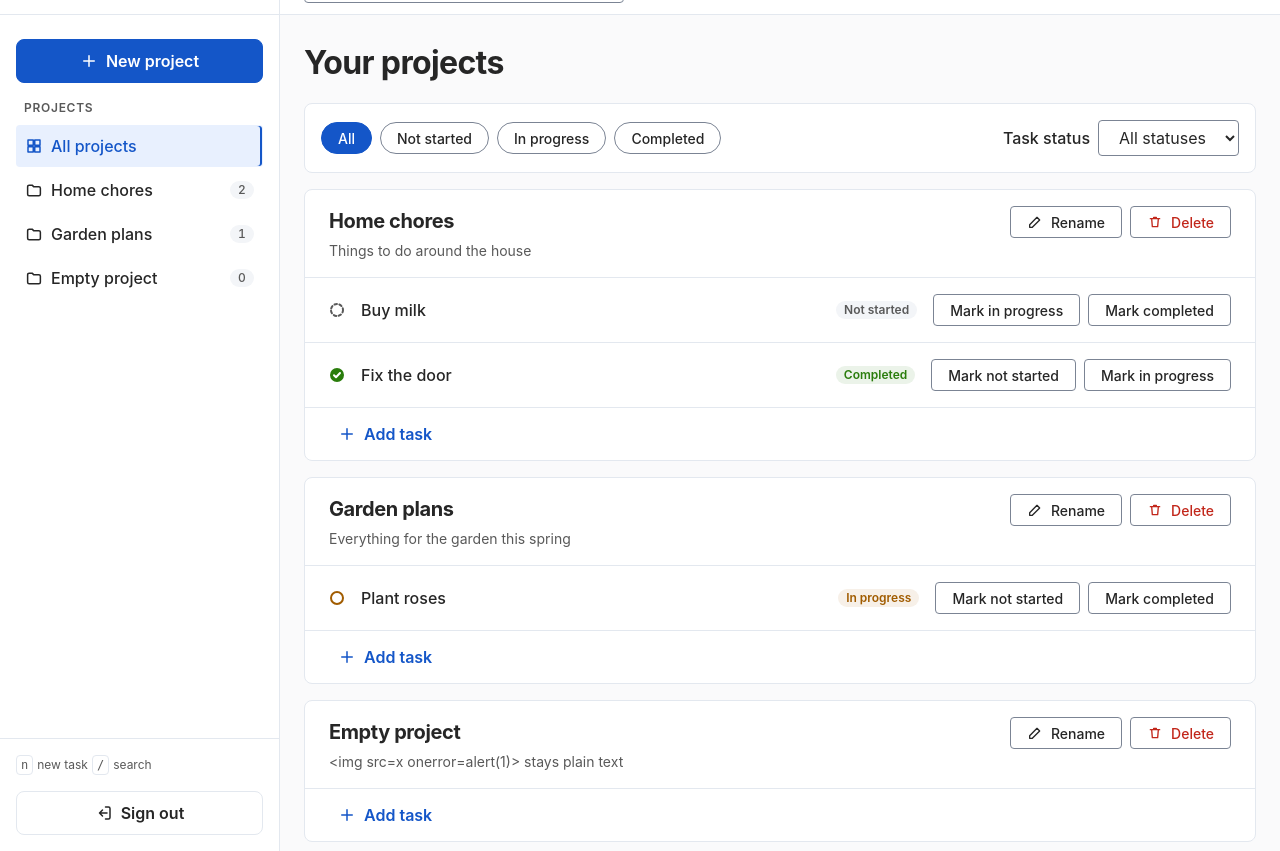
it: Dashboard › a delete that fails for another reason keeps the project and says so
Click the button with aria-label "Delete Empty project": coordinates (1181, 733) [1130,717,1231,749]
(page scrolled)
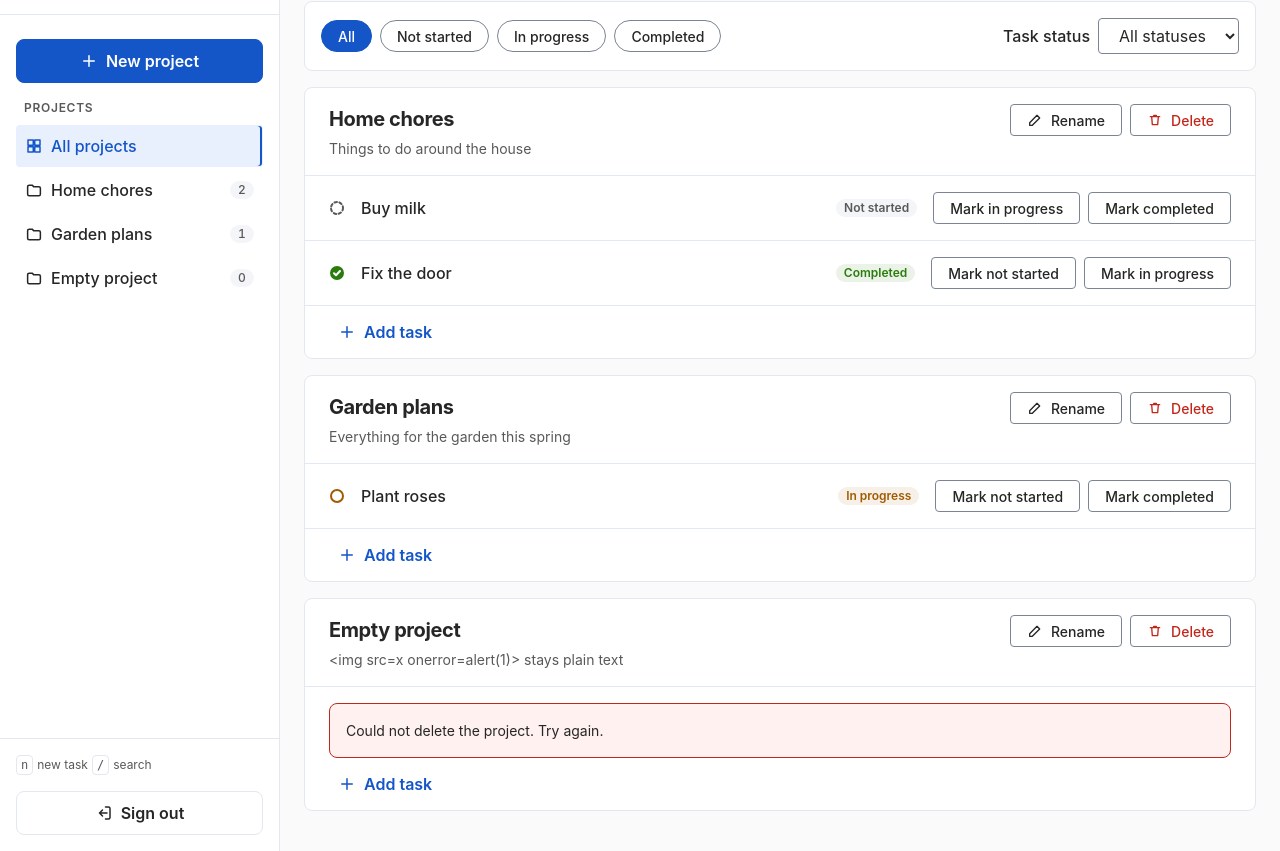
Expected: the message reads "Could not delete the project. Try again.", [346,722,603,739]
